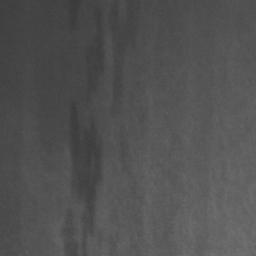Inclusion: (68, 105, 102, 236), (109, 0, 142, 119), (83, 13, 105, 92), (60, 206, 79, 256)
